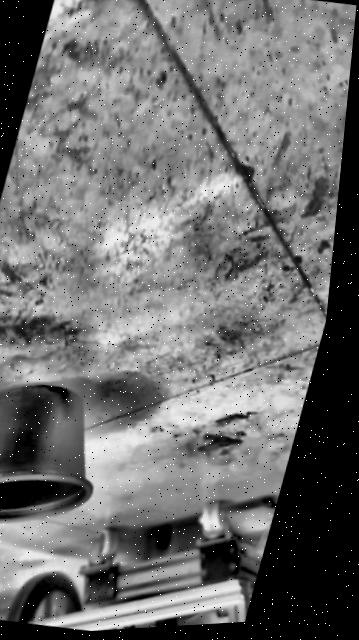pot: (0, 370, 120, 543)
